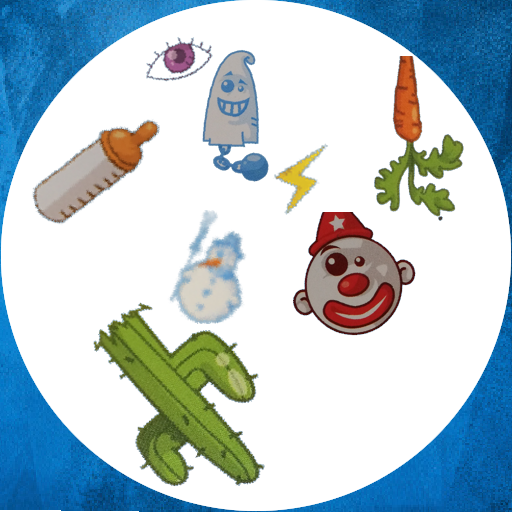bottle_icon: (22, 94, 173, 245)
cactus_icon: (71, 280, 299, 508)
carrot_icon: (318, 56, 490, 228)
clown_icon: (293, 212, 418, 337)
eye_icon: (143, 26, 214, 97)
ghost_icon: (169, 46, 307, 184)
lightning_icon: (263, 137, 344, 218)
snowman_icon: (150, 210, 264, 324)
